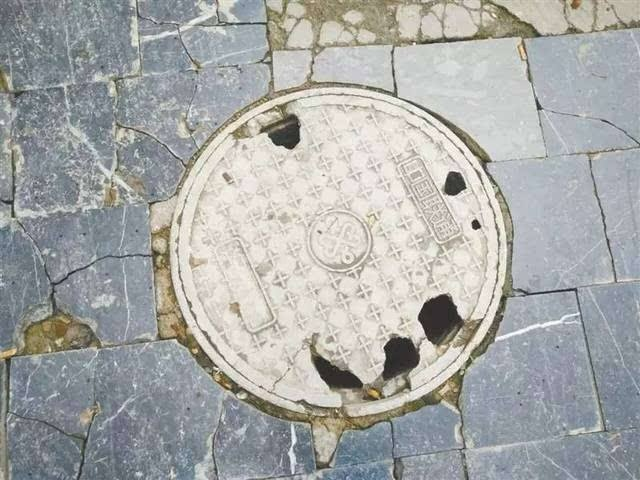broke: (169, 88, 508, 419)
